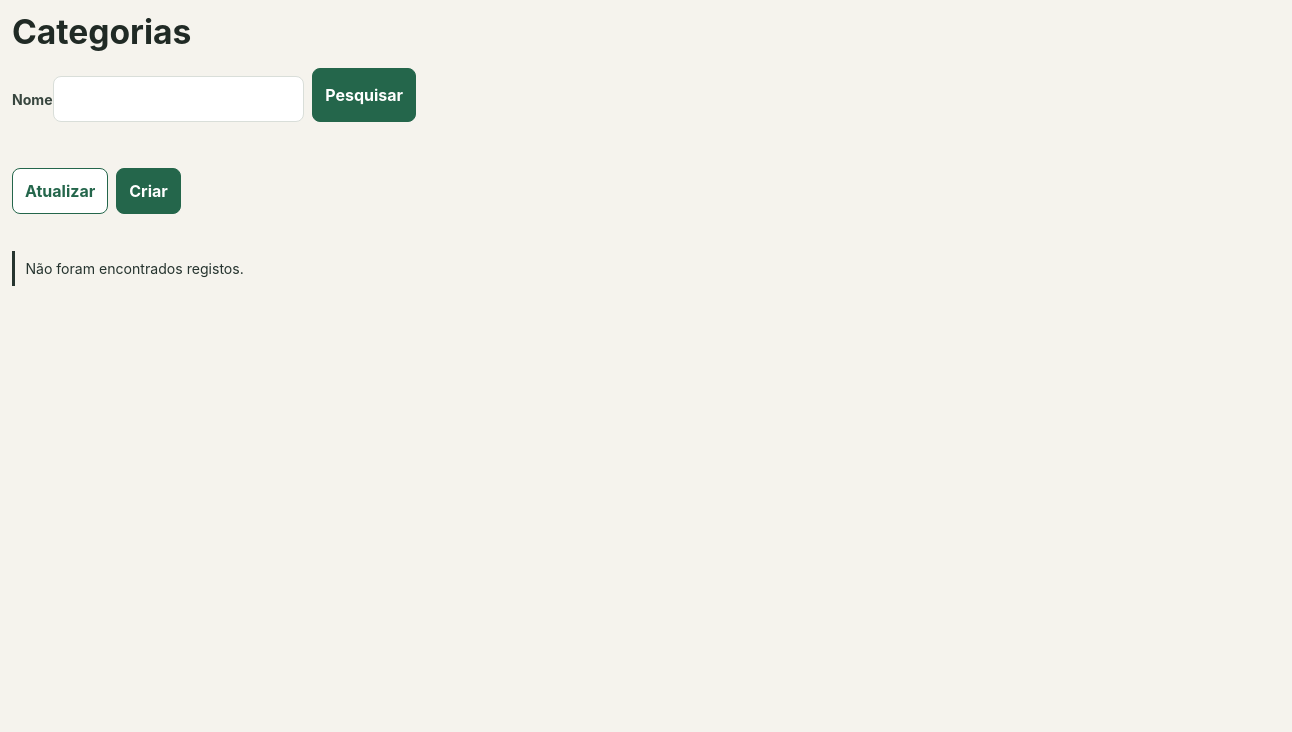
Test: required fields block invalid submission and focus the missing field
Click the button "Criar" at (149, 191), box x1=116 y1=168 x2=181 y2=214
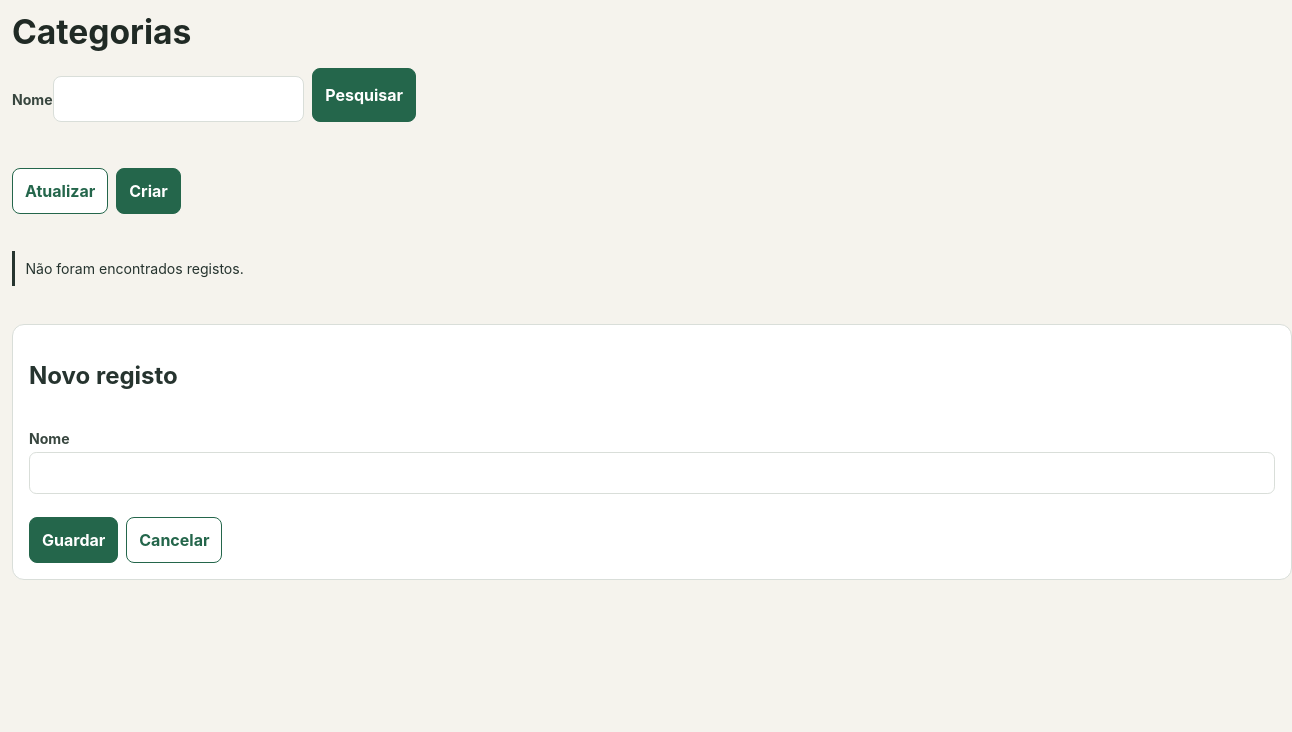
Click the button "Guardar" at (74, 540), box x1=29 y1=517 x2=118 y2=563
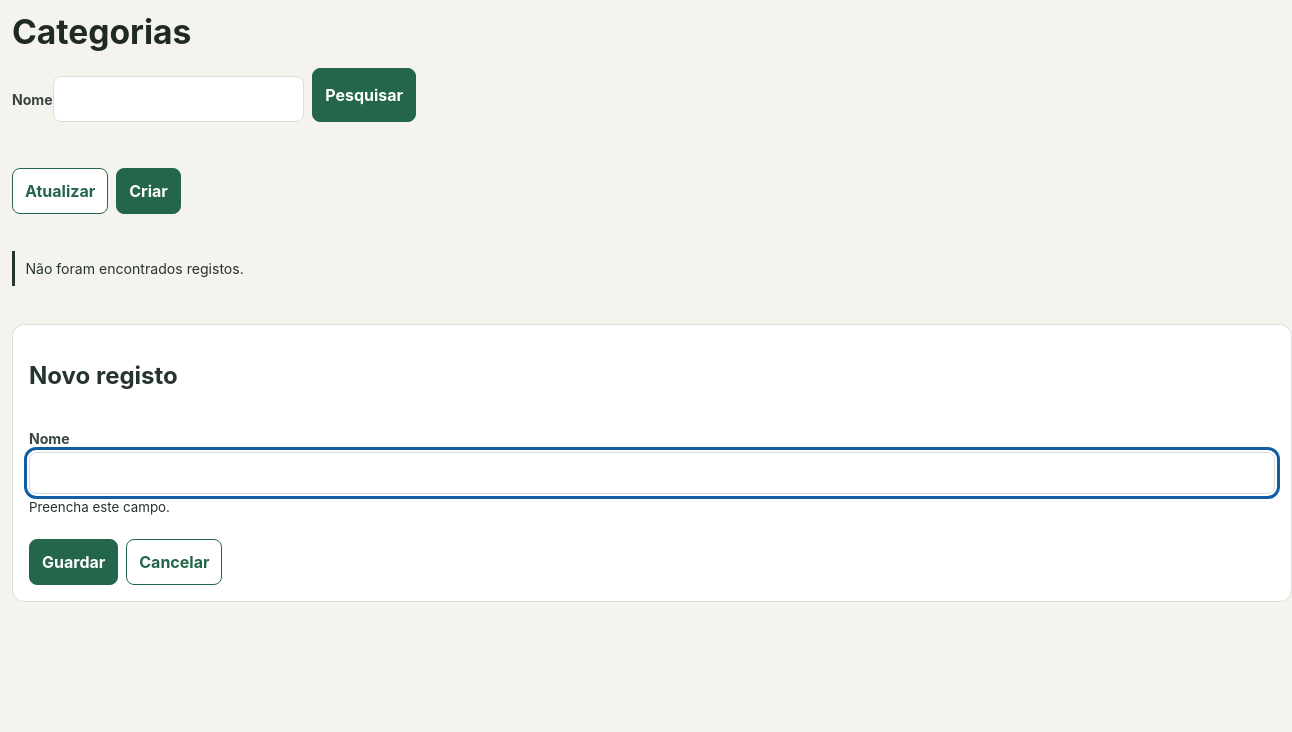
expect the text "Preencha este campo." is shown: met, box x1=29 y1=499 x2=170 y2=515
